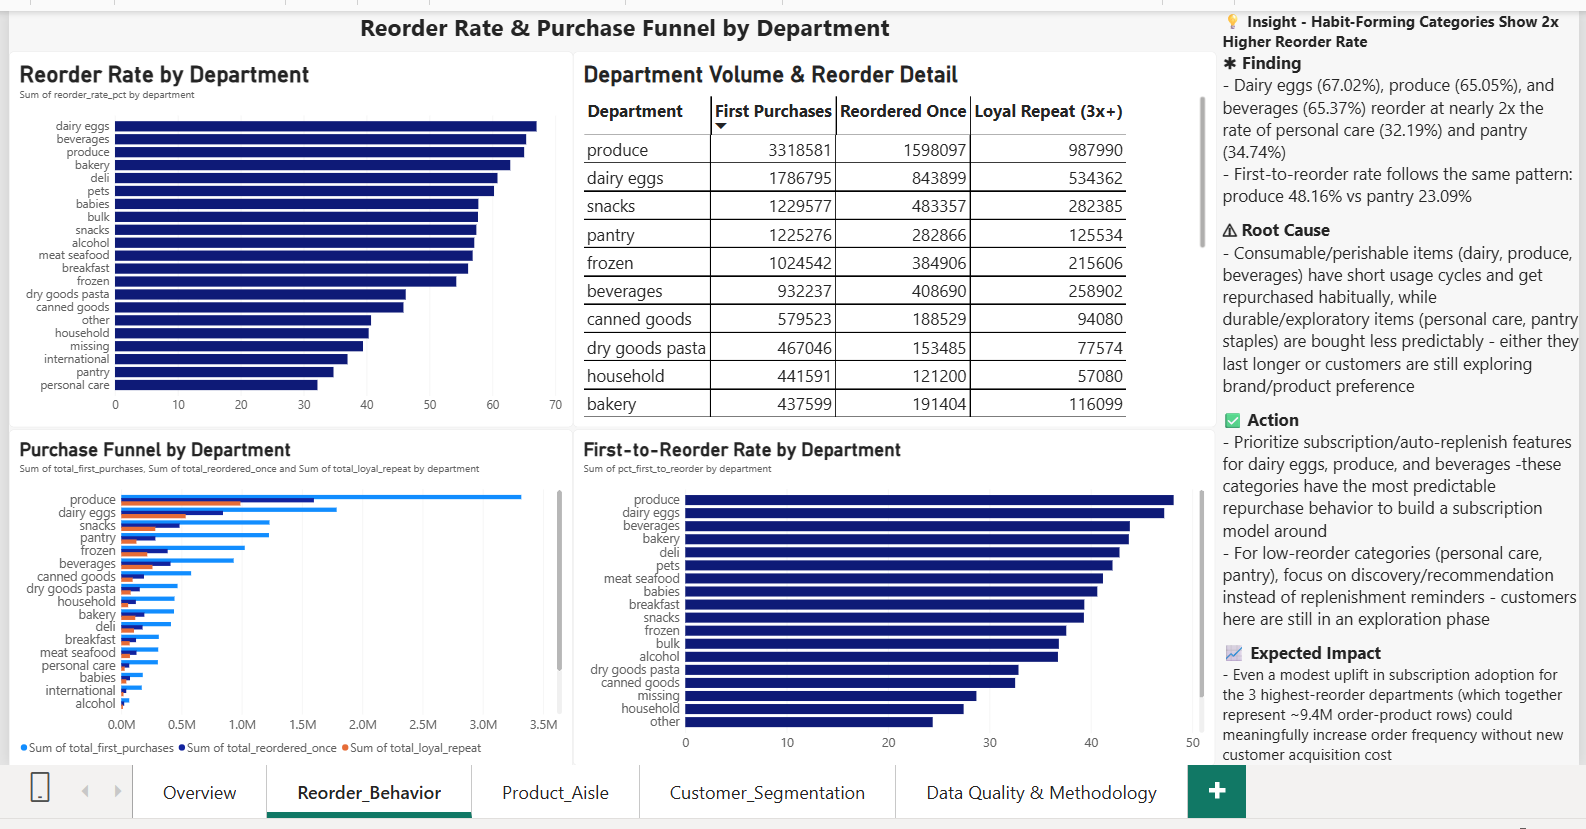

What the dashboard file says about the page in this screenshot:
{"tool":"powerbi","page":{"name":"Reorder_Behavior","canvas":[2500,1200],"ordinal":1},"visuals":[{"type":"textbox","box":[557.5,0,852.5,67.5],"z":0},{"type":"clusteredBarChart","title":"Reorder Rate by Department\t","fields":{"Category":["mart_reorder_by_department.department"],"Y":["Sum(mart_reorder_by_department.reorder_rate_pct)"]},"box":[0,66.8,897.1,596.5],"z":1000},{"type":"tableEx","title":"Department Volume & Reorder Detail","fields":{"Values":["mart_reorder_funnel.department","Sum(mart_reorder_funnel.total_first_purchases)","Sum(mart_reorder_funnel.total_reordered_once)","Sum(mart_reorder_funnel.total_loyal_repeat)"]},"box":[897.1,66.8,1023.6,596.5],"z":2000},{"type":"clusteredBarChart","title":"Purchase Funnel by Department","fields":{"Category":["mart_reorder_funnel.department"],"Y":["Sum(mart_reorder_funnel.total_first_purchases)","Sum(mart_reorder_funnel.total_reordered_once)","Sum(mart_reorder_funnel.total_loyal_repeat)"]},"box":[0,665,897.5,540],"z":3000},{"type":"clusteredBarChart","title":"First-to-Reorder Rate by Department\t","fields":{"Category":["mart_reorder_funnel.department"],"Y":["Sum(mart_reorder_funnel.pct_first_to_reorder)"]},"box":[898,665,1022,535],"z":4000},{"type":"textbox","box":[1931.4,0,568.6,1200],"z":5000}]}

Visuals, with their boxes on the page's 2500x1200 design canvas (x1, y1, x2, y2). These are canvas units, not pixel positions in the 1586x829 screenshot, which may show the page scaled, cropped or inside an application window:
textbox: x1=558 y1=0 x2=1410 y2=68
"Reorder Rate by Department	" clusteredBarChart: x1=0 y1=67 x2=897 y2=663
"Department Volume & Reorder Detail" tableEx: x1=897 y1=67 x2=1921 y2=663
"Purchase Funnel by Department" clusteredBarChart: x1=0 y1=665 x2=898 y2=1205
"First-to-Reorder Rate by Department	" clusteredBarChart: x1=898 y1=665 x2=1920 y2=1200
textbox: x1=1931 y1=0 x2=2500 y2=1200
